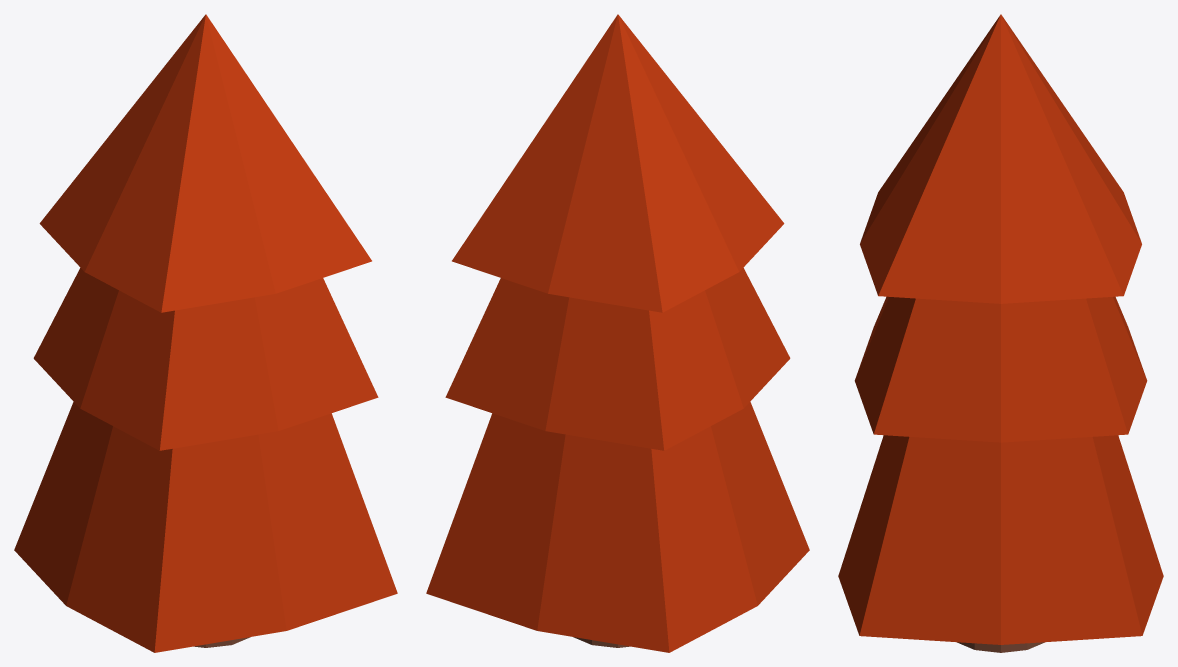
Rendered from Tree_23_summer_red_mat.fbx.
The picture shows the model from 3 angles, left to right: view 1: azimuth 30°, elevation 25°; view 2: azimuth 150°, elevation 25°; view 3: azimuth 270°, elevation 25°; orthographic projection.
Visible parts, largest first — view 1: Tree_23_summer_red_mat; view 2: Tree_23_summer_red_mat; view 3: Tree_23_summer_red_mat.
Part boxes in pixels (x1=…): Tree_23_summer_red_mat: x1=14, y1=14, x2=397, y2=652; Tree_23_summer_red_mat: x1=426, y1=14, x2=809, y2=652; Tree_23_summer_red_mat: x1=838, y1=14, x2=1163, y2=652.
Bounding box in the file's own units: 90.1 × 188 × 90.1.
